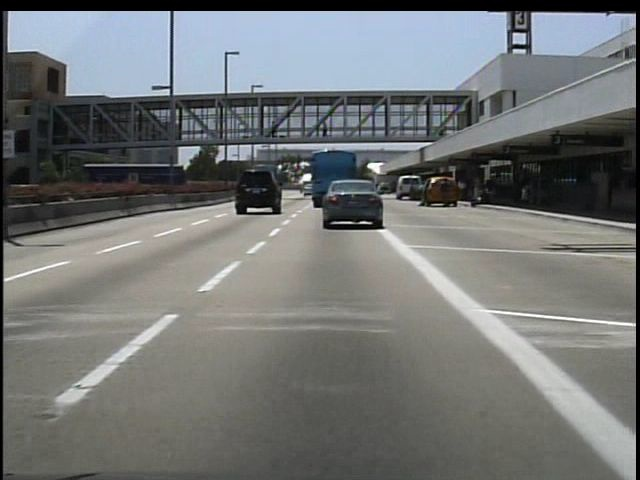person: (439, 176, 456, 211), (319, 118, 332, 143), (269, 116, 283, 138)
